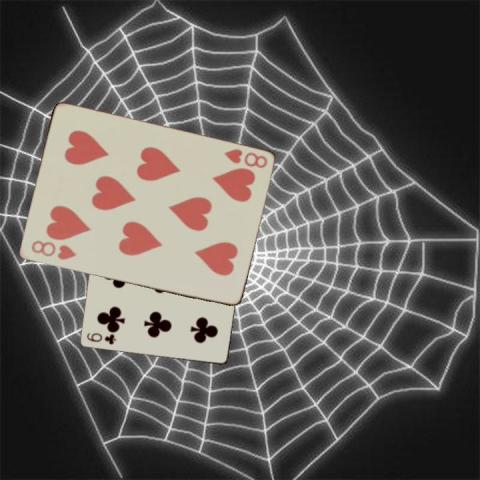6c: (84, 330, 118, 346)
8h: (27, 237, 78, 262), (221, 146, 269, 170)
